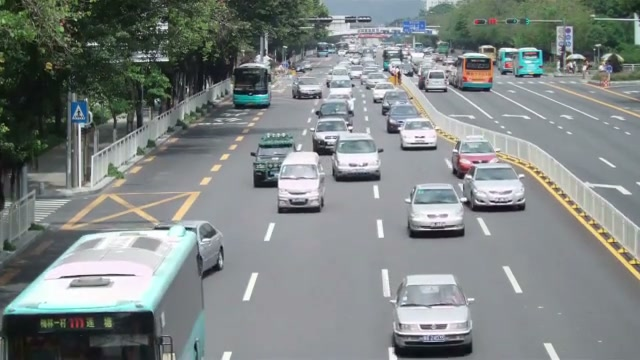bus: (0, 225, 208, 357), (231, 62, 272, 108), (456, 52, 494, 91), (497, 48, 544, 77), (515, 48, 543, 77), (496, 47, 517, 75)
car: (390, 274, 476, 356), (159, 219, 225, 278), (404, 182, 466, 238), (463, 162, 527, 212), (277, 151, 327, 213), (331, 133, 382, 181), (450, 135, 499, 179), (312, 116, 349, 154), (399, 118, 438, 151), (386, 104, 422, 133), (293, 77, 323, 99)
truck: (251, 132, 297, 187), (423, 69, 449, 93)
